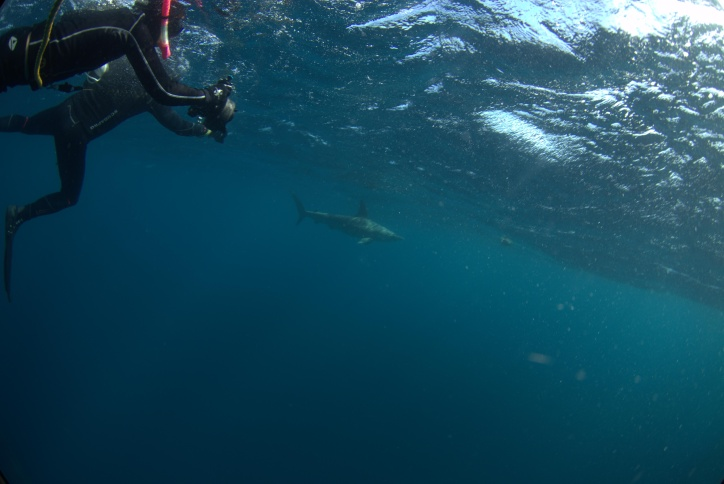Hammer: (258, 174, 414, 262)
